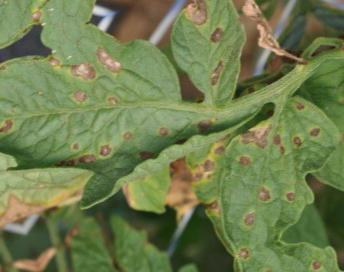Tomato Septoria leaf spot: (0, 0, 250, 237), (170, 83, 344, 264), (146, 0, 275, 121)
